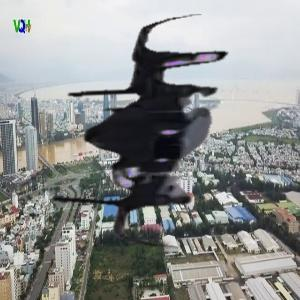drone: (30, 9, 279, 258)
